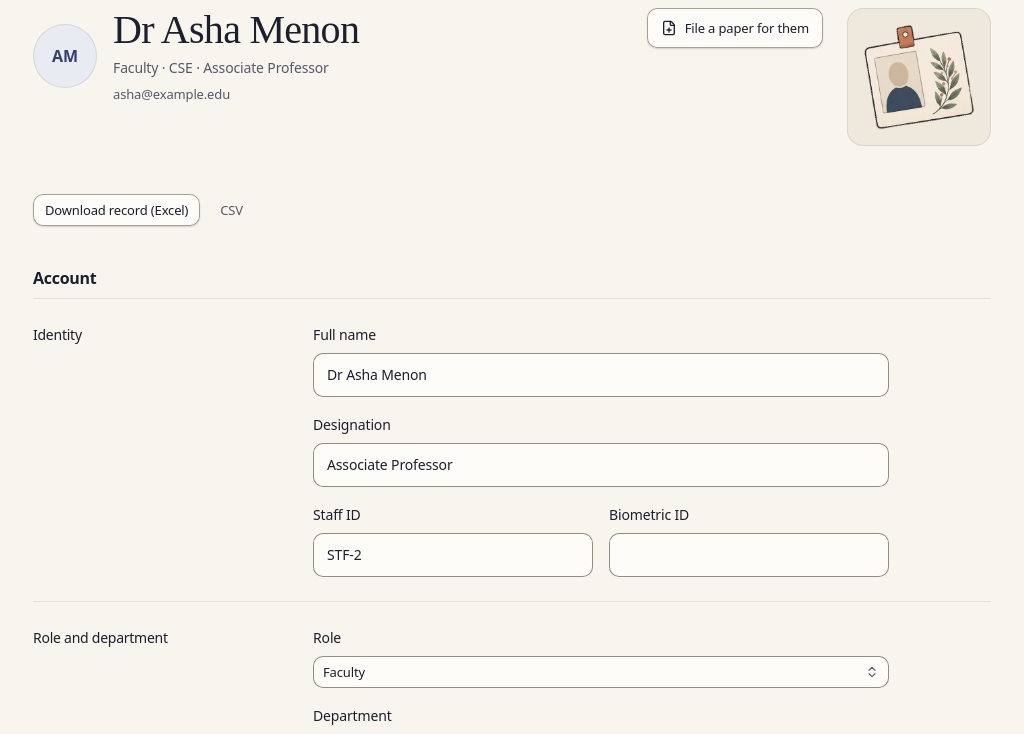
Scenario: AccountEditor — who may appoint what › offers a super admin every role
The width and height of the screenshot is (1024, 734).
Expected: the heading "Role and department" is shown, [33,628,168,647]
Click the button named "Role" at (344, 672), box [313,656,889,688]
(page scrolled)
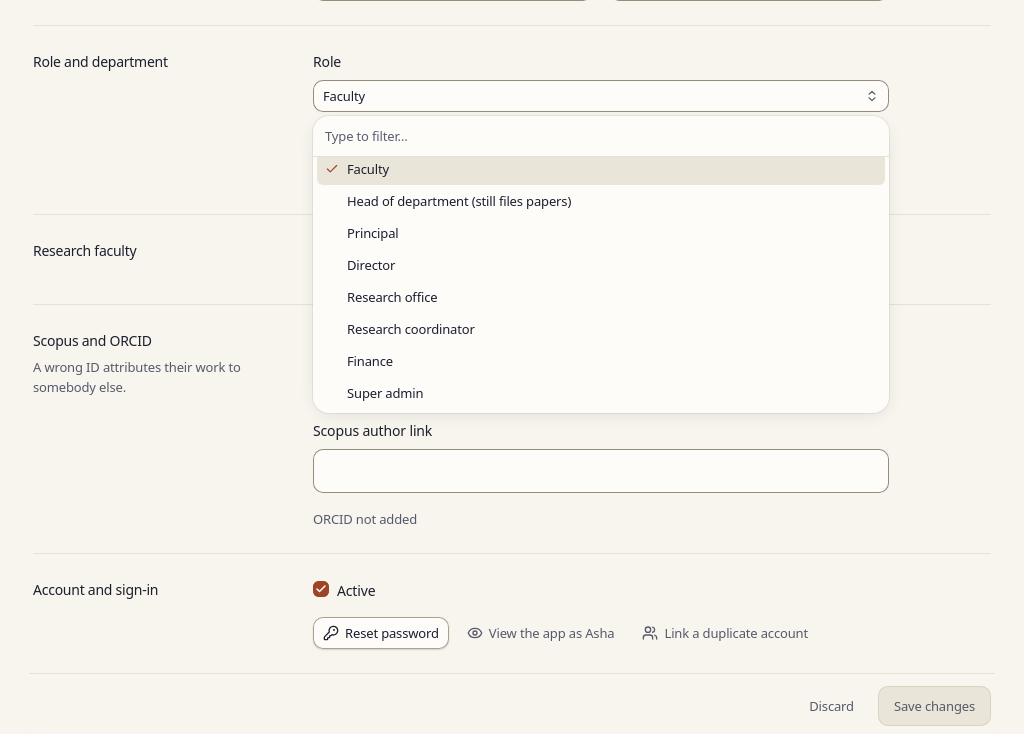
Now the option "Finance" is shown, box [347,352,393,370]
